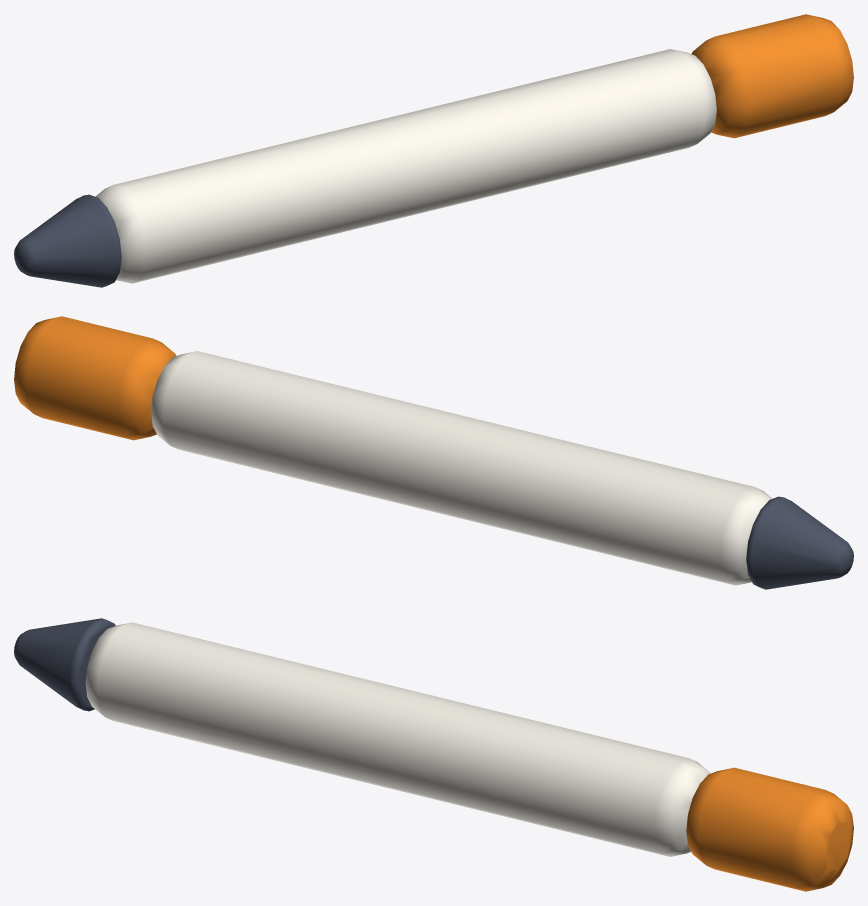
The model's file is Prop_Pen.fbx.
3 views of the same model, one above another, from view 1: azimuth 30°, elevation 25°; view 2: azimuth 150°, elevation 25°; view 3: azimuth 330°, elevation 25° (orthographic).
Visible parts, largest first — view 1: Prop_Pen.Barrel, Prop_Pen.Cap, Prop_Pen.Tip; view 2: Prop_Pen.Barrel, Prop_Pen.Cap, Prop_Pen.Tip; view 3: Prop_Pen.Barrel, Prop_Pen.Cap, Prop_Pen.Tip.
Boxes of the visible parts, x1=… form: Prop_Pen.Barrel: x1=95, y1=49, x2=716, y2=283; Prop_Pen.Cap: x1=691, y1=14, x2=853, y2=138; Prop_Pen.Tip: x1=14, y1=194, x2=121, y2=287; Prop_Pen.Barrel: x1=151, y1=351, x2=772, y2=585; Prop_Pen.Cap: x1=14, y1=316, x2=176, y2=440; Prop_Pen.Tip: x1=746, y1=496, x2=853, y2=589; Prop_Pen.Barrel: x1=85, y1=622, x2=710, y2=856; Prop_Pen.Cap: x1=686, y1=767, x2=853, y2=891; Prop_Pen.Tip: x1=14, y1=618, x2=115, y2=711.
Size of the model in its own units: 0.3 by 0.033 by 0.033.
1 material, 1 textured.
